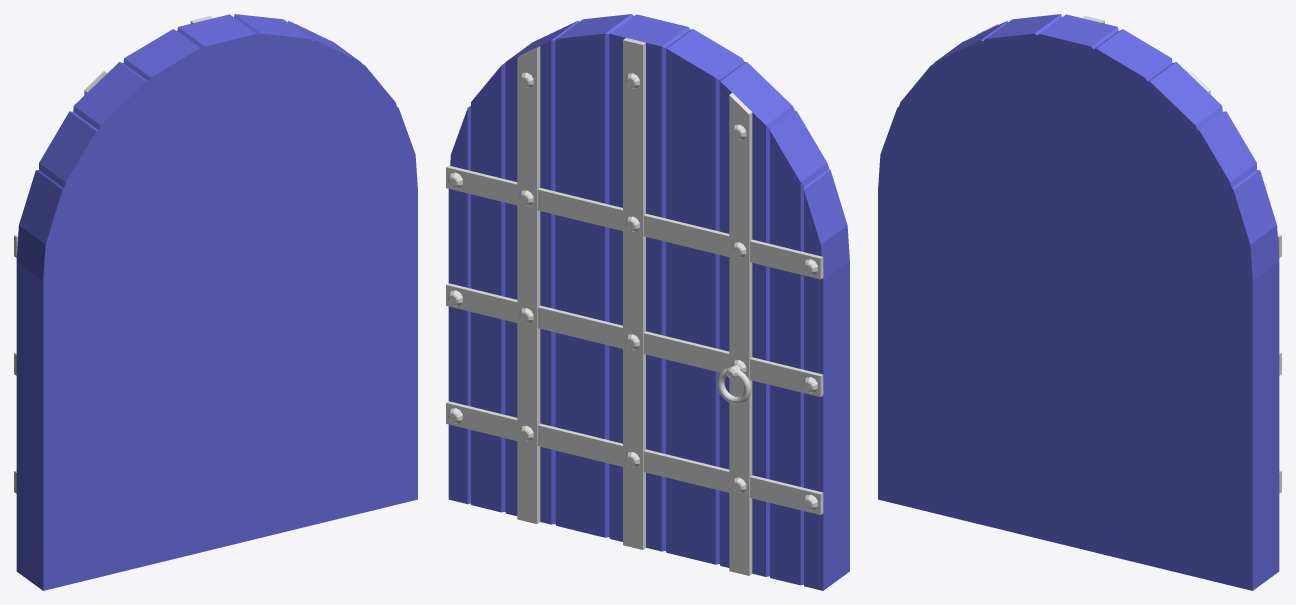
Rendered from doorCaldeira.fbx.
3 views of the same model, side by side, from view 1: azimuth 30°, elevation 25°; view 2: azimuth 150°, elevation 25°; view 3: azimuth 330°, elevation 25° (orthographic).
Parts seen in each view (by area): view 1: porta-caldeira; view 2: porta-caldeira, Plane.001, Cylinder, Cylinder.001, Cylinder.002, Torus; view 3: porta-caldeira.
Part boxes in pixels (left/top/right/bottom): porta-caldeira: left=16, top=14, right=417, bottom=590; porta-caldeira: left=448, top=14, right=849, bottom=590; Plane.001: left=446, top=38, right=823, bottom=575; Cylinder: left=448, top=172, right=817, bottom=510; Cylinder.001: left=519, top=72, right=533, bottom=441; Cylinder.002: left=732, top=124, right=746, bottom=492; Torus: left=717, top=368, right=751, bottom=404; porta-caldeira: left=878, top=14, right=1279, bottom=590.
Bounding box in the file's own units: 191 × 245 × 34.54.
